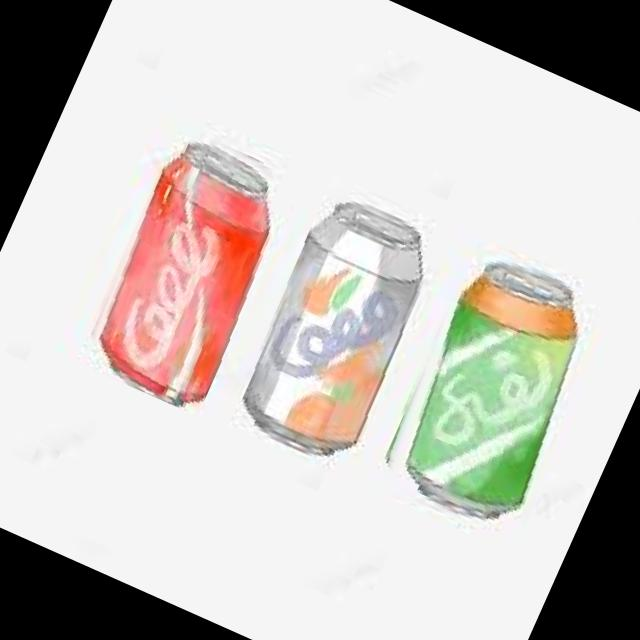Cans: (356, 229, 618, 548), (213, 177, 458, 484), (68, 115, 306, 416)
